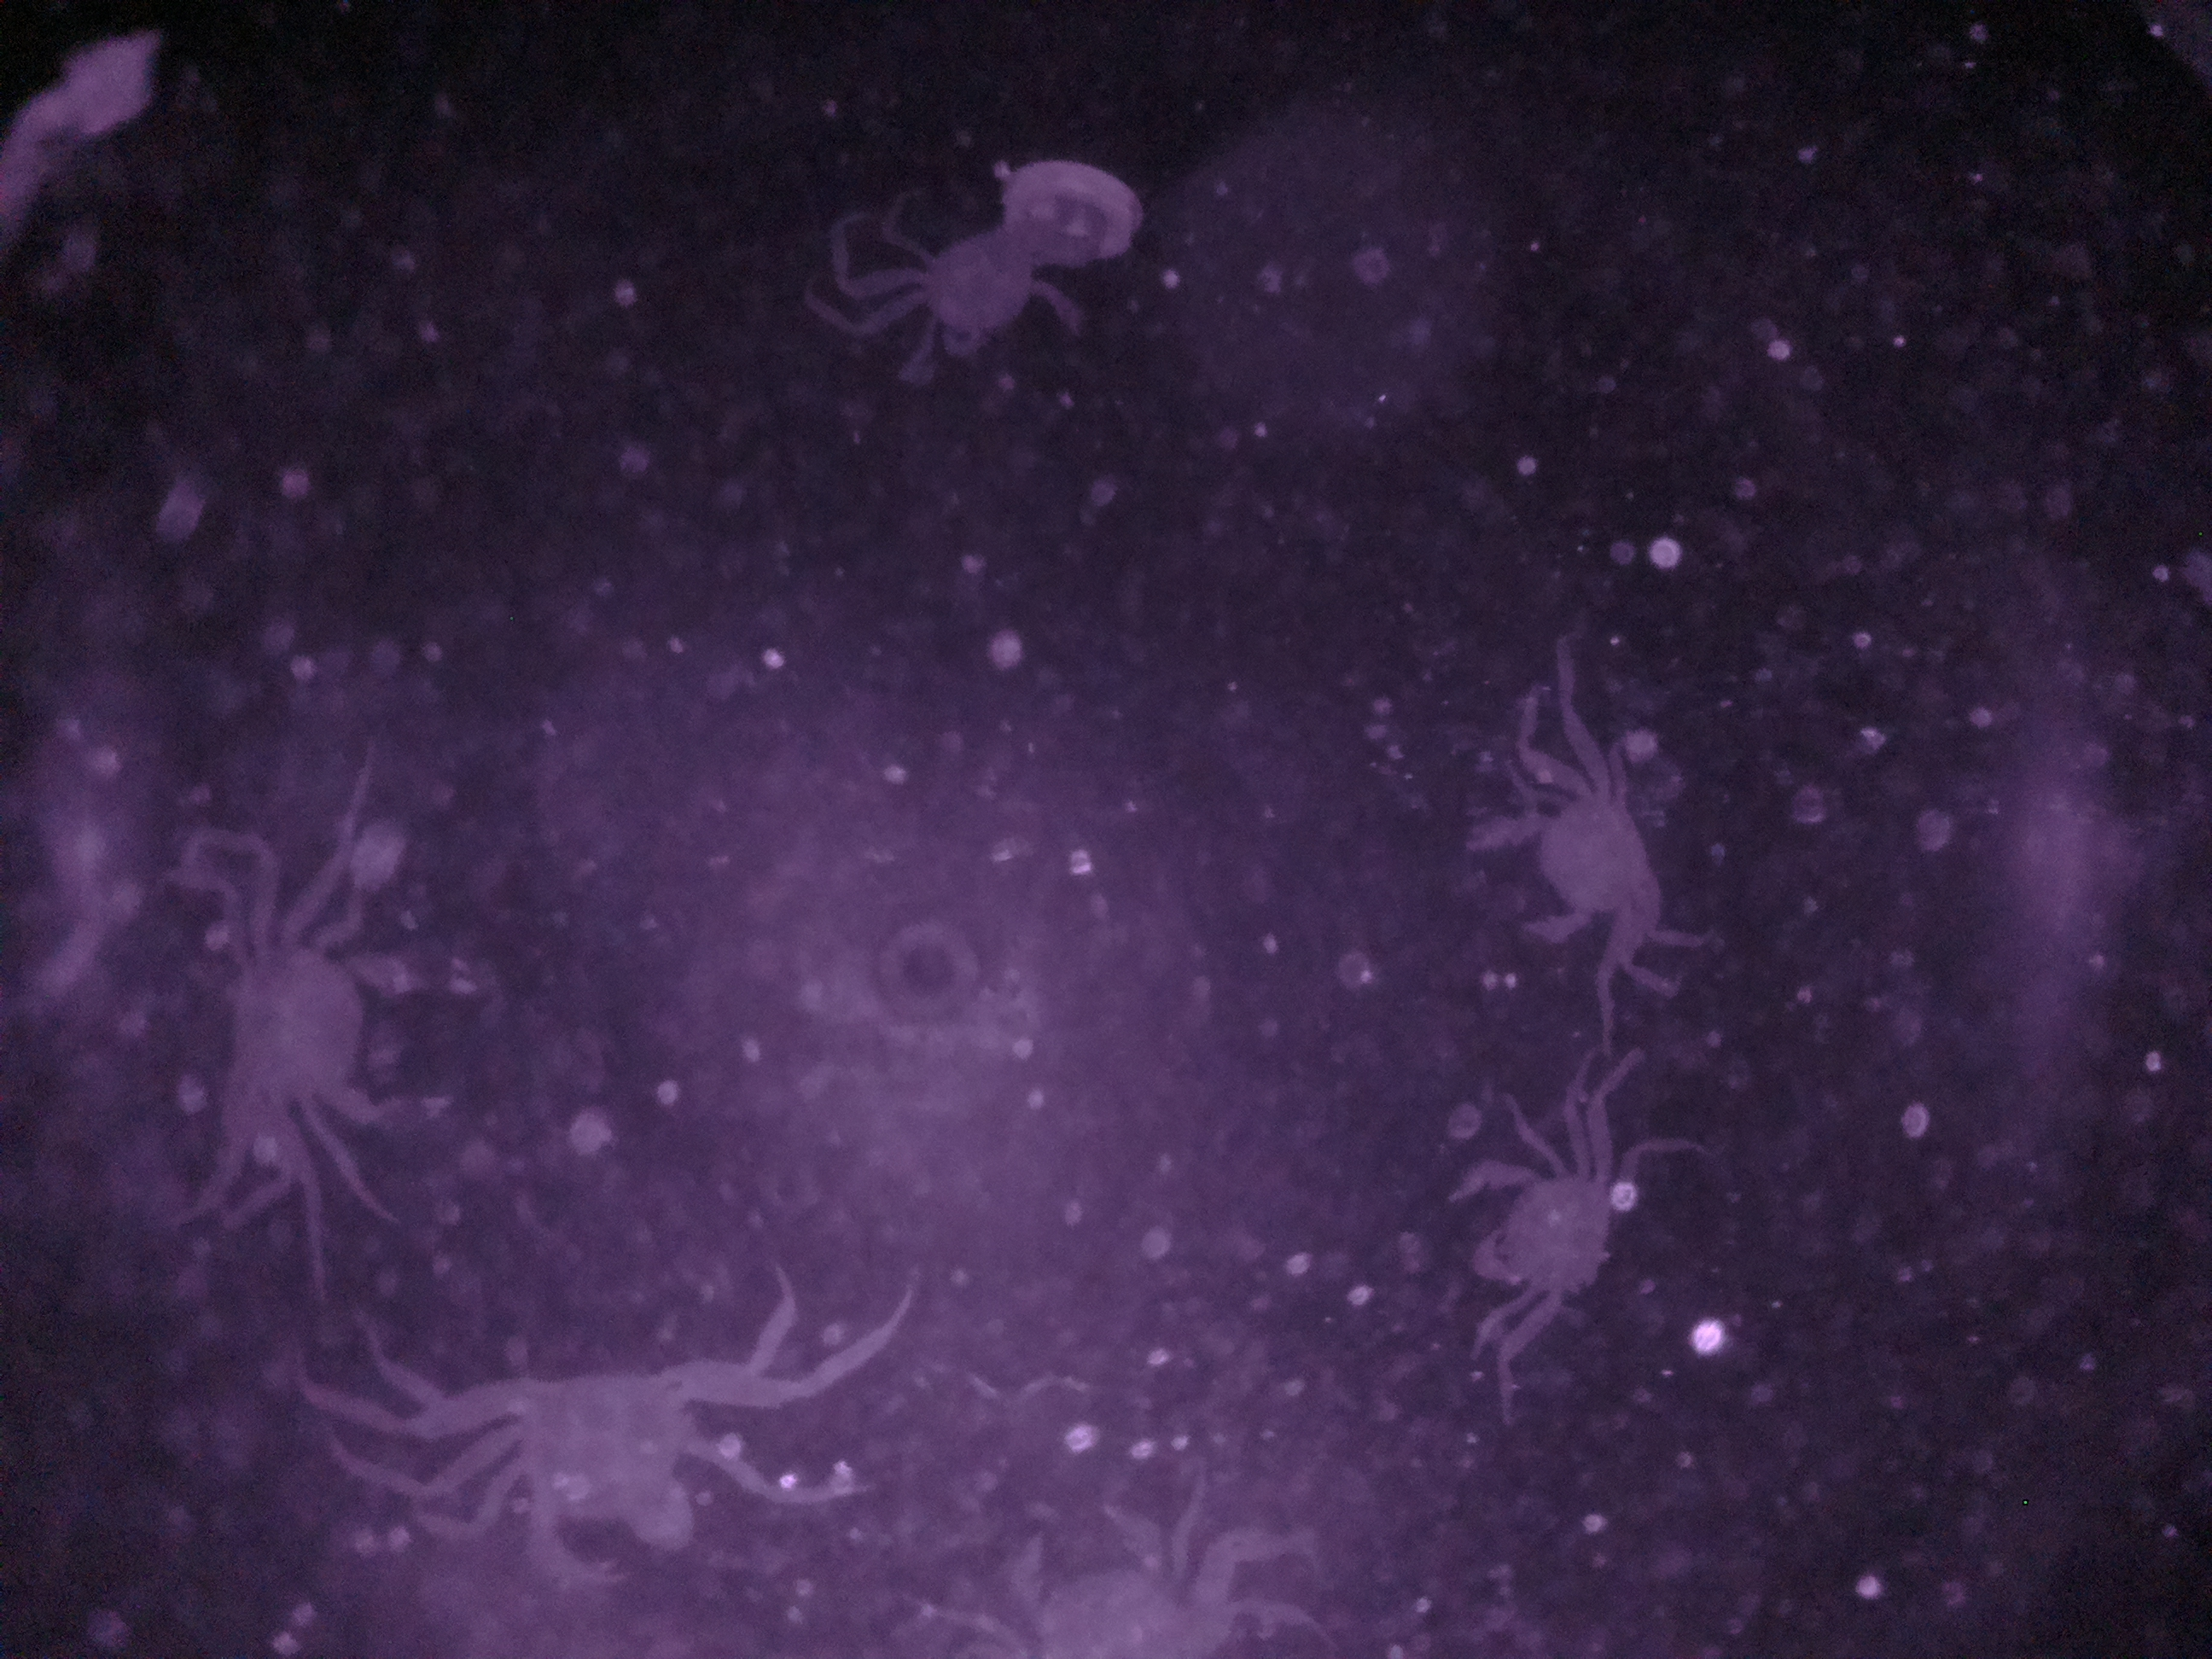Crab: (1458, 744, 1698, 974), (1435, 1110, 1635, 1345)
